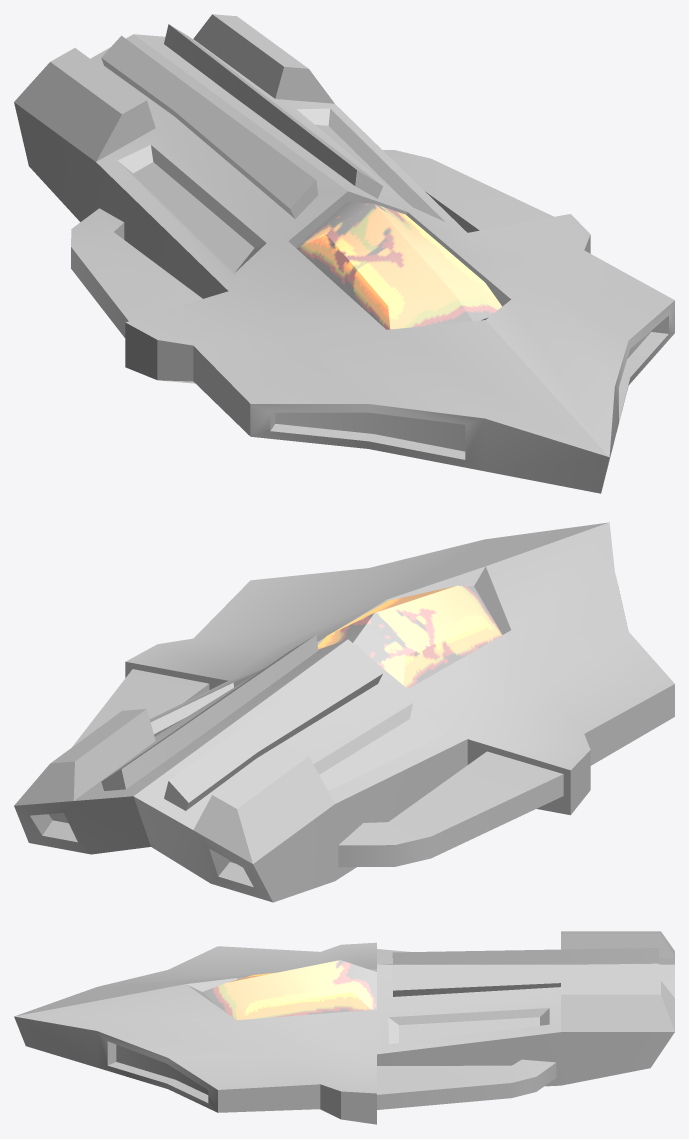
3 renders of one model, top to bottom at view 1: azimuth 30°, elevation 25°; view 2: azimuth 150°, elevation 25°; view 3: azimuth 270°, elevation 25°, orthographic. The views are drawn at different scales.
Visible parts, largest first — view 1: Vaisseau; view 2: Vaisseau; view 3: Vaisseau.
Part boxes in pixels (left/top/right/bottom): Vaisseau: left=14, top=14, right=674, bottom=493; Vaisseau: left=14, top=522, right=674, bottom=902; Vaisseau: left=14, top=931, right=674, bottom=1124.
Size of the model in its own units: 5.85 by 1.77 by 10.83.
